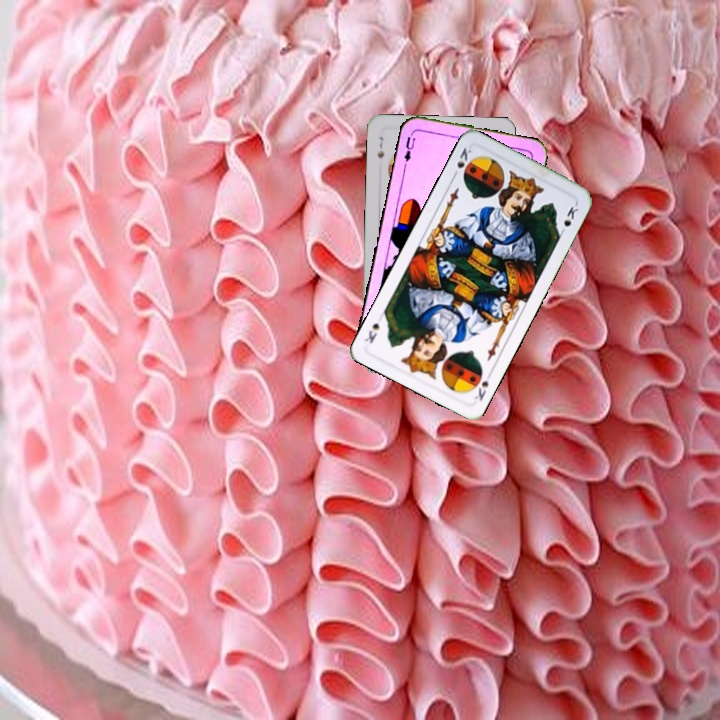EU: (400, 133, 418, 164)
S7: (373, 133, 386, 161)
SK: (468, 366, 495, 404), (448, 143, 474, 181)
